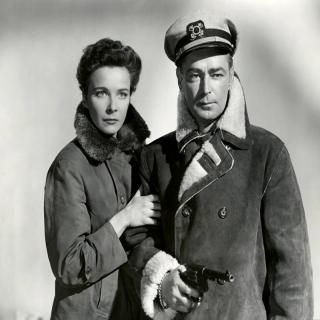gun: (169, 257, 238, 316)
